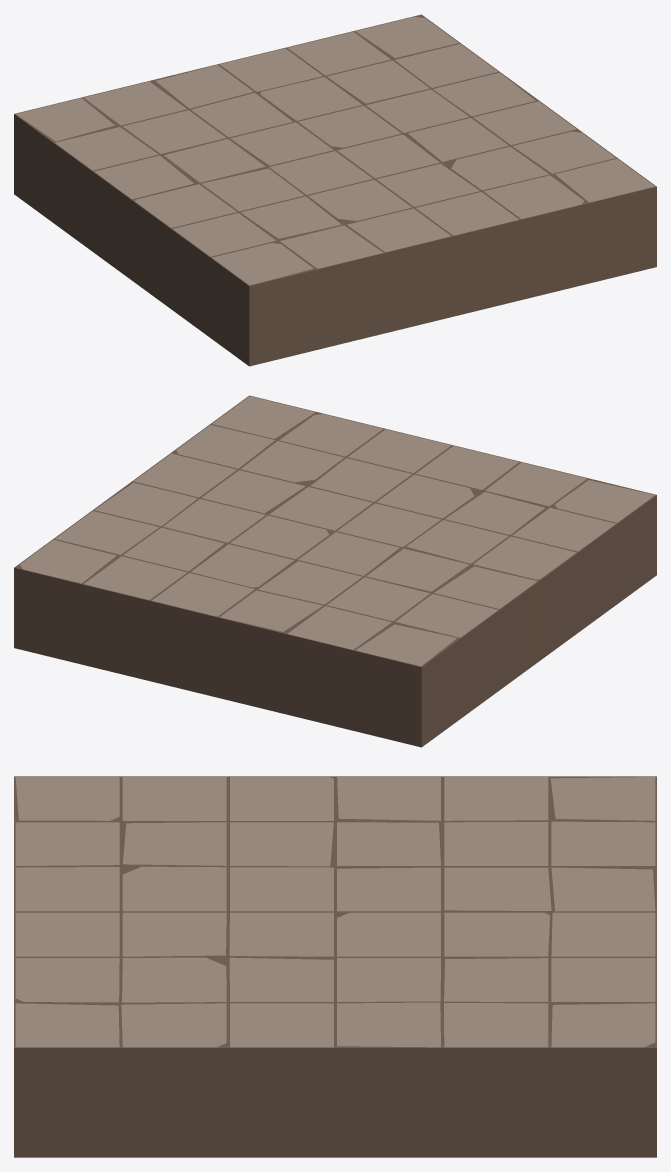
File: Seafront_02.fbx
3 renders of one model, top to bottom at view 1: azimuth 30°, elevation 25°; view 2: azimuth 150°, elevation 25°; view 3: azimuth 270°, elevation 25°, orthographic. The views are drawn at different scales.
Parts seen in each view (by area): view 1: Seafront_02; view 2: Seafront_02; view 3: Seafront_02.
Part boxes in pixels (bbox=[...]): Seafront_02: bbox=[14, 14, 656, 366]; Seafront_02: bbox=[14, 395, 656, 747]; Seafront_02: bbox=[14, 776, 656, 1157].
Size of the model in its own units: 600 by 113 by 600.
